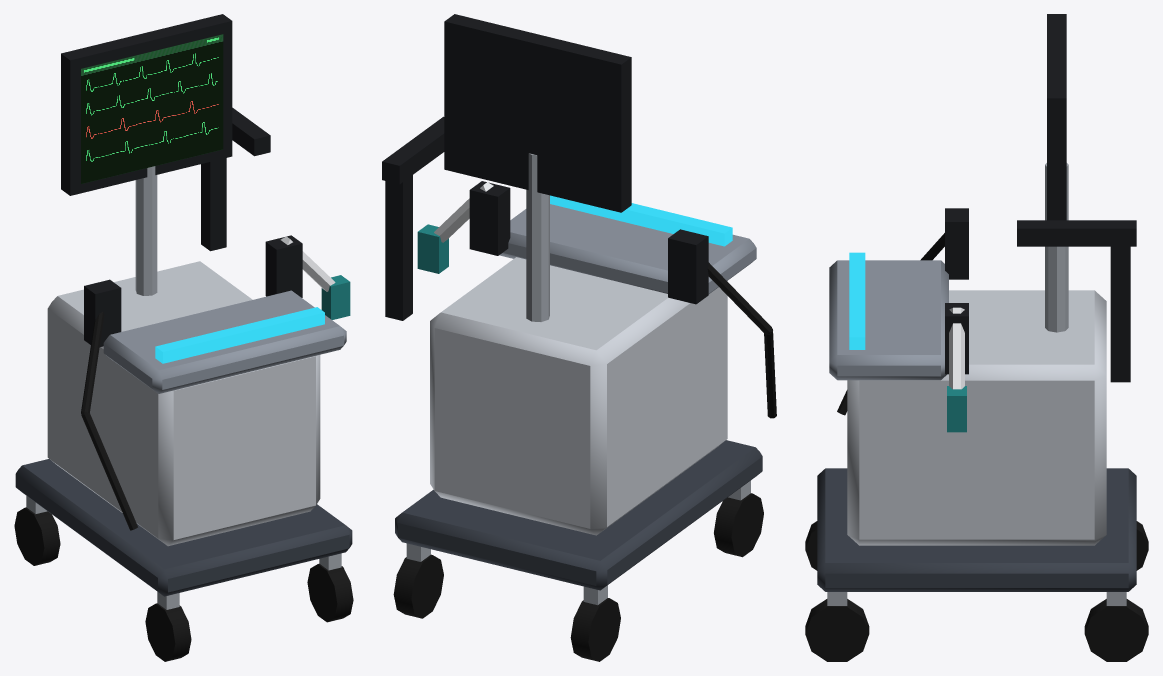
The model's file is medscanner_ultrasound_cart.glb.
3 renders of one model, left to right at view 1: azimuth 30°, elevation 25°; view 2: azimuth 150°, elevation 25°; view 3: azimuth 270°, elevation 25°, orthographic. The views are drawn at different scales.
Parts seen in each view (by area): view 1: medscanner_ultrasound_cart; view 2: medscanner_ultrasound_cart; view 3: medscanner_ultrasound_cart.
Boxes of the visible parts, bbox=[...] form: medscanner_ultrasound_cart: bbox=[14, 14, 353, 661]; medscanner_ultrasound_cart: bbox=[382, 14, 776, 661]; medscanner_ultrasound_cart: bbox=[805, 14, 1148, 661].
Size of the model in its own units: 0.902 by 1.55 by 0.86.
Materials: 10 (1 with a texture image).
